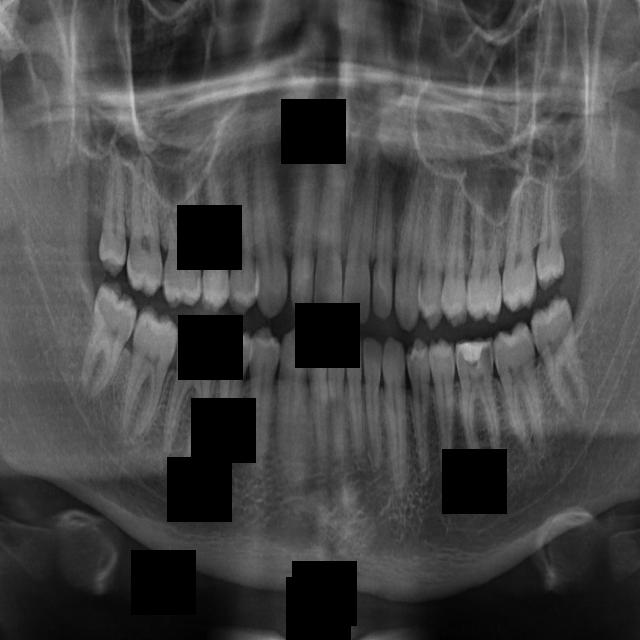3M ESPE Implant: (99, 144, 127, 277)
AGS Medikal Implant: (490, 317, 551, 464)
AMerOss Implant: (454, 334, 505, 484)
Amalgam filling: (126, 154, 166, 297)
Anthogyr Implant: (429, 337, 464, 486)
Bicon Implant: (405, 336, 438, 484)
BioHorizons Implant: (382, 336, 409, 497)
BioLife Implant: (363, 333, 382, 473)
Biomet 3i Implant: (346, 333, 364, 463)
Blue Sky Bio Implant: (327, 332, 346, 472)
Camlog Implant: (305, 328, 331, 470)
Caries: (371, 165, 396, 321)
Composite filling: (272, 327, 309, 473)
Cowellmedi Implant: (237, 323, 282, 480)
Crown: (201, 324, 255, 484)
DENTSPLY Implant: (157, 157, 203, 309)
Dentatus Implant: (159, 313, 225, 464)
Dentis Implant: (110, 305, 184, 444)
Dentium Implant: (88, 387, 91, 395)
Euroteknika Implant: (200, 168, 235, 314)
Filling: (225, 159, 255, 317)
Frontier Implant: (249, 128, 290, 320)
Hiossen Implant: (391, 146, 432, 334)
Implant: (313, 139, 348, 320)
Implant Direct: (289, 151, 318, 316)
Keystone Dental Implant: (341, 149, 378, 326)
MIS Implant: (421, 160, 445, 330)
Mandible: (441, 179, 467, 328)
Maxilla: (464, 186, 508, 323)
Megagen Implant: (517, 195, 524, 235)
Neodent Implant: (530, 159, 566, 292)
Neoss Implant: (523, 289, 601, 426)
